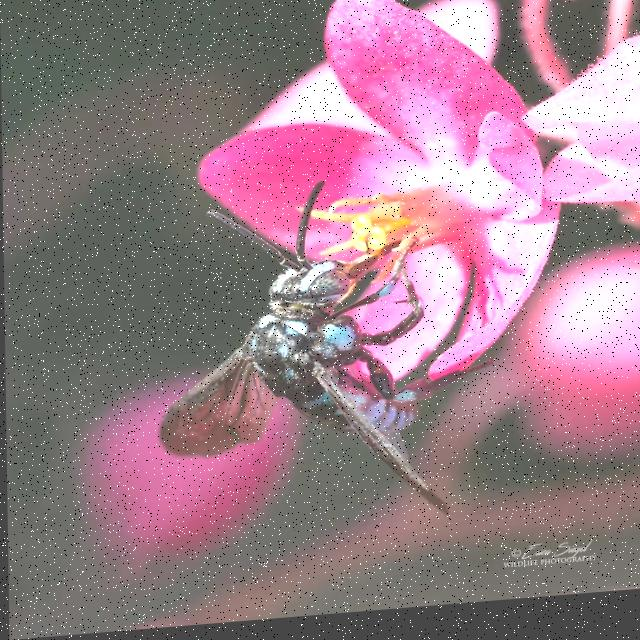Thyreus: (154, 170, 467, 549)
